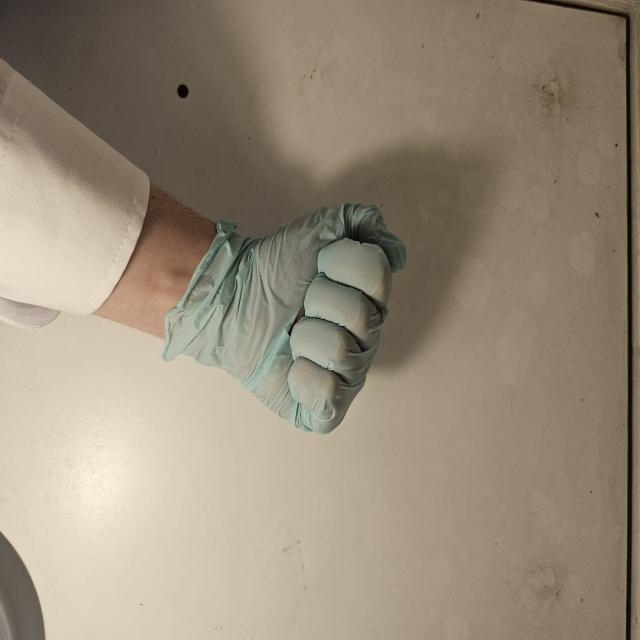gloves_damaged: (160, 198, 408, 437)
